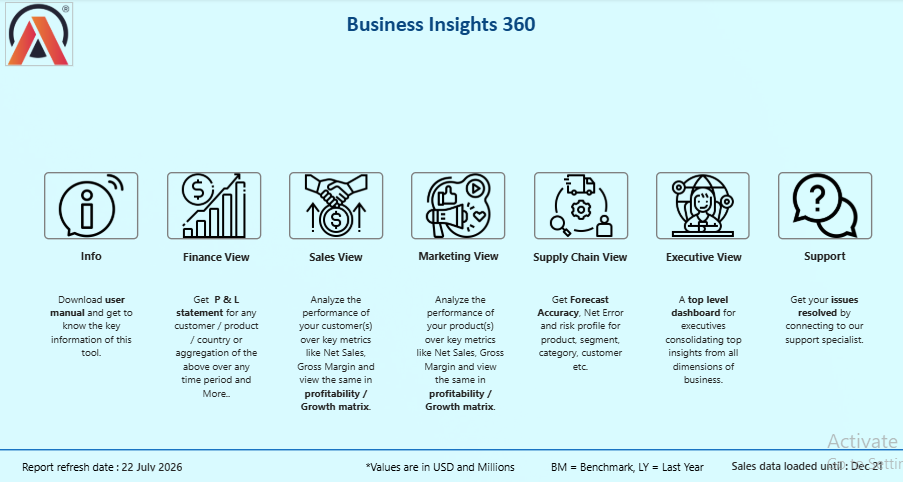

Layout of this report page (visuals, bound fields, positions):
{"tool":"powerbi","page":{"name":"Home","canvas":[1350,720],"ordinal":0},"visuals":[{"type":"image","box":[429.1,259,140,99.5],"z":0},{"type":"image","box":[610.7,259,140,99.5],"z":1000},{"type":"image","box":[7.3,5.9,101,95.1],"z":2000},{"type":"image","box":[247.5,259,140,99.5],"z":3000},{"type":"image","box":[974,259,139,99.5],"z":4000},{"type":"image","box":[1154.6,259,140.5,99.5],"z":5000},{"type":"image","box":[65.9,259,140,99.5],"z":6000},{"type":"image","box":[792.4,259,140,99.5],"z":7000},{"type":"textbox","box":[482.9,5.9,343.9,67.3],"z":8000},{"type":"textbox","box":[65.9,358.5,140,39.5],"z":9000},{"type":"textbox","box":[65.9,422.9,140.5,155.1],"z":10000},{"type":"textbox","box":[250.2,360,140,39.5],"z":11000},{"type":"textbox","box":[250.2,422.9,140.5,180],"z":12000},{"type":"textbox","box":[428.8,360,139,39.5],"z":13000},{"type":"textbox","box":[428.8,422.9,139,213.7],"z":14000},{"type":"textbox","box":[610.2,358.5,140.5,39.5],"z":15000},{"type":"textbox","box":[613.2,422.9,140.5,212.2],"z":16000},{"type":"textbox","box":[775.6,360,172.7,39.5],"z":17000},{"type":"textbox","box":[974.6,360,139,39.5],"z":18000},{"type":"textbox","box":[1154.6,358.5,139,39.5],"z":19000},{"type":"textbox","box":[791.7,422.9,140.5,159.5],"z":20000},{"type":"textbox","box":[973.2,422.9,140.5,159.5],"z":21000},{"type":"textbox","box":[1153.2,422.9,140.5,159.5],"z":22000},{"type":"textbox","box":[535,680,238.3,38.3],"z":23000},{"type":"cardVisual","fields":{"Data":["Min(Last_Refresh.Refresh_Timestamp)"]},"box":[151.2,669.2,247.7,50.8],"z":24000},{"type":"shape","box":[0,660,1350,20],"z":25000},{"type":"cardVisual","fields":{"Data":["Key Measures.Last sales month footer"]},"box":[1057.7,666.2,292.3,53.8],"z":26000},{"type":"textbox","box":[2,680,206.2,40],"z":27000},{"type":"textbox","box":[811.7,680,238.3,38.3],"z":28000}]}

Visuals, with their boxes in screenshot pixels (x1, y1, x2, y2), scaled from the page's 1350x720 canvas onto the 903x482 screenshot:
image: box(287, 173, 381, 240)
image: box(408, 173, 502, 240)
image: box(5, 4, 72, 68)
image: box(166, 173, 259, 240)
image: box(651, 173, 744, 240)
image: box(772, 173, 866, 240)
image: box(44, 173, 138, 240)
image: box(530, 173, 624, 240)
textbox: box(323, 4, 553, 49)
textbox: box(44, 240, 138, 266)
textbox: box(44, 283, 138, 387)
textbox: box(167, 241, 261, 267)
textbox: box(167, 283, 261, 404)
textbox: box(287, 241, 380, 267)
textbox: box(287, 283, 380, 426)
textbox: box(408, 240, 502, 266)
textbox: box(410, 283, 504, 425)
textbox: box(519, 241, 634, 267)
textbox: box(652, 241, 745, 267)
textbox: box(772, 240, 865, 266)
textbox: box(530, 283, 624, 390)
textbox: box(651, 283, 745, 390)
textbox: box(771, 283, 865, 390)
textbox: box(358, 455, 517, 481)
cardVisual - Min(Last_Refresh.Refresh_Timestamp): box(101, 448, 267, 481)
shape: box(0, 442, 902, 455)
cardVisual - Key Measures.Last sales month footer: box(707, 446, 902, 481)
textbox: box(1, 455, 139, 481)
textbox: box(543, 455, 702, 481)
